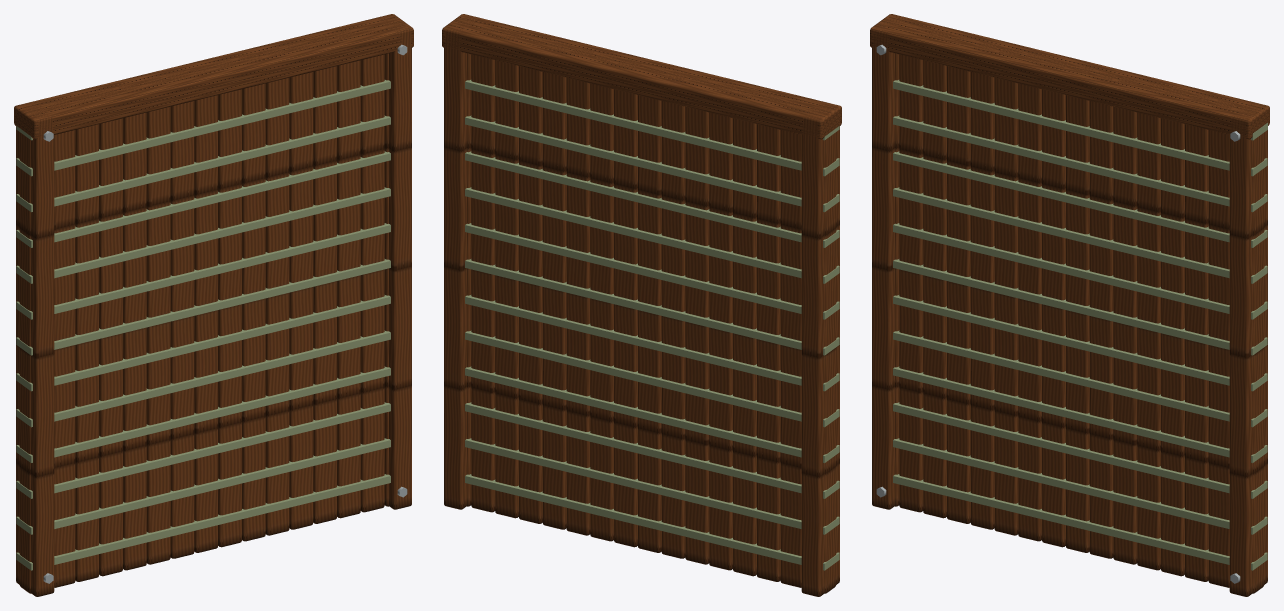
Rendered from modular-survival-base-builder-wall-wattle-panel-86e9f04b__24166.glb.
3 renders of one model, left to right at view 1: azimuth 30°, elevation 25°; view 2: azimuth 150°, elevation 25°; view 3: azimuth 330°, elevation 25°, orthographic.
Parts seen in each view (by area): view 1: wall-wattle-panel; view 2: wall-wattle-panel; view 3: wall-wattle-panel.
Boxes of the visible parts, <box> form: wall-wattle-panel: <box>14,14,413,596</box>; wall-wattle-panel: <box>442,14,841,596</box>; wall-wattle-panel: <box>870,14,1269,596</box>.
Bounding box in the file's own units: 2 × 2.4 × 0.2116.
3 materials, 1 textured.
